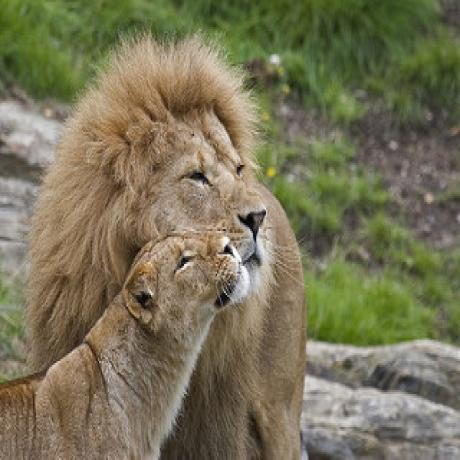Lion: (28, 15, 309, 460), (0, 234, 252, 460)
